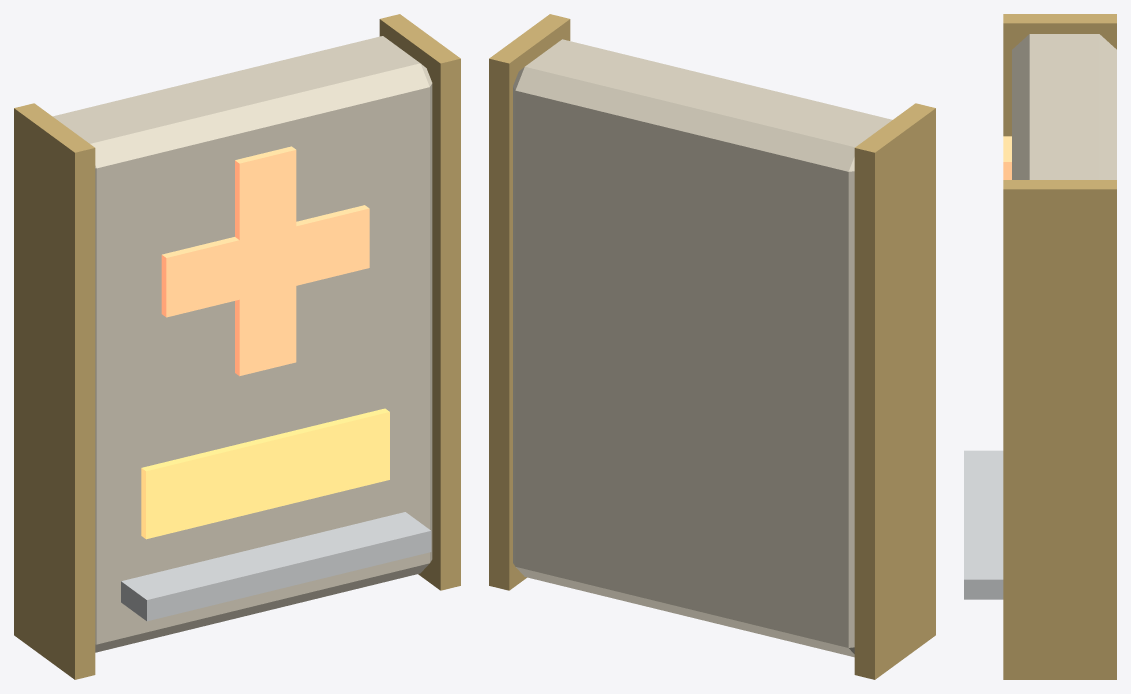
The model's file is hm_medic.glb.
3 renders of one model, left to right at view 1: azimuth 30°, elevation 25°; view 2: azimuth 150°, elevation 25°; view 3: azimuth 270°, elevation 25°, orthographic. The views are drawn at different scales.
Visible parts, largest first — view 1: hm_medic; view 2: hm_medic; view 3: hm_medic.
Boxes of the visible parts, bbox=[...] form: hm_medic: bbox=[14, 14, 460, 679]; hm_medic: bbox=[489, 14, 935, 679]; hm_medic: bbox=[964, 14, 1116, 679].
Bounding box in the file's own units: 0.95 × 1.24 × 0.35.
